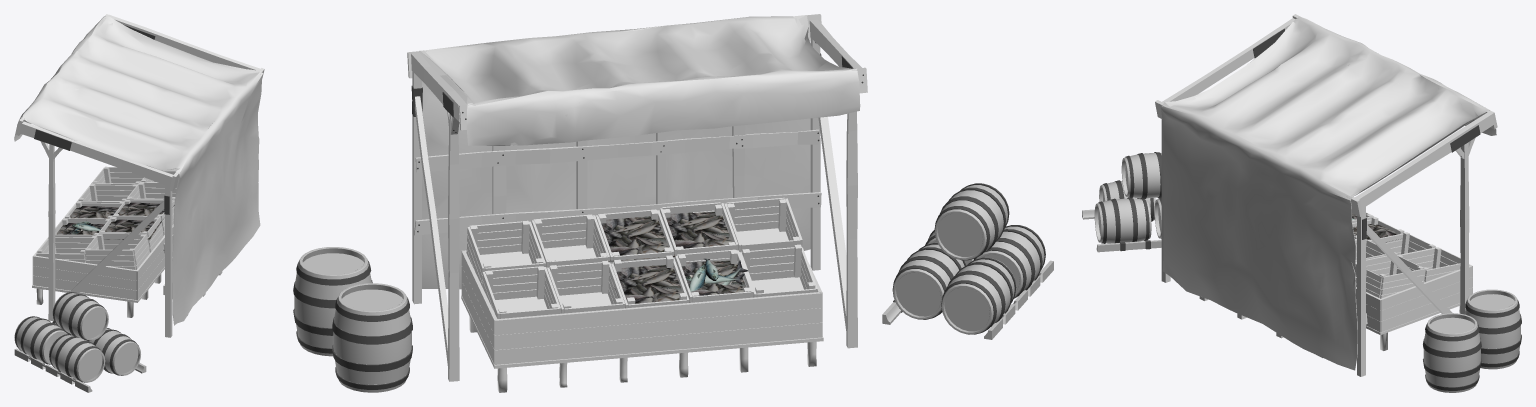
File: fish_boxes.fbx
The picture shows the model from 3 angles, left to right: view 1: azimuth 30°, elevation 25°; view 2: azimuth 150°, elevation 25°; view 3: azimuth 270°, elevation 25°; orthographic projection. The views are drawn at different scales.
Parts seen in each view (by area): view 1: fabric 1, till, stand roof, stand bottom, Barrel.006, Barrel.003, Barrel.002, Barrel.005, metal, Cube.013, Plane.003, Plane.006 (+2 smaller); view 2: fabric 1, stand roof, till, stand bottom, Barrel, Barrel.001, Barrel.006, Barrel.002, Barrel.004, Barrel.003, Barrel.007, Plane.005 (+4 smaller); view 3: fabric 1, stand roof, Barrel.001, till, stand bottom, Barrel, Barrel.005, Barrel.006, Barrel.007, metal, Barrel.003, Cube.011.
Part boxes in pixels (x1,y1,x2,y2): fabric 1: (14, 15, 263, 325); till: (36, 166, 177, 269); stand roof: (16, 14, 264, 337); stand bottom: (32, 183, 173, 317); Barrel.006: (52, 292, 108, 340); Barrel.003: (49, 334, 105, 382); Barrel.002: (14, 316, 67, 364); Barrel.005: (86, 328, 140, 375); metal: (34, 24, 169, 214); Cube.013: (14, 348, 92, 392); Plane.003: (70, 206, 118, 218); Plane.006: (103, 219, 162, 240); fabric 1: (419, 15, 860, 289); stand roof: (407, 14, 867, 381); till: (466, 197, 817, 318); stand bottom: (461, 250, 823, 392); Barrel: (333, 283, 411, 392); Barrel.001: (293, 247, 372, 356); Barrel.006: (934, 183, 1009, 260); Barrel.002: (941, 257, 1016, 334); Barrel.004: (892, 243, 966, 319); Barrel.003: (974, 225, 1045, 298); Barrel.007: (332, 297, 412, 389); Plane.005: (597, 216, 675, 261); fabric 1: (1161, 16, 1496, 370); stand roof: (1155, 14, 1497, 376); Barrel.001: (1423, 313, 1481, 392); till: (1352, 212, 1460, 298); stand bottom: (1356, 264, 1472, 350); Barrel: (1464, 289, 1520, 369); Barrel.005: (1094, 197, 1151, 243); Barrel.006: (1121, 152, 1161, 198); Barrel.007: (1465, 300, 1521, 367); metal: (1253, 28, 1480, 239); Barrel.003: (1099, 180, 1155, 221); Cube.011: (1096, 240, 1161, 252).
Size of the model in its own units: 958 by 528 by 949.
